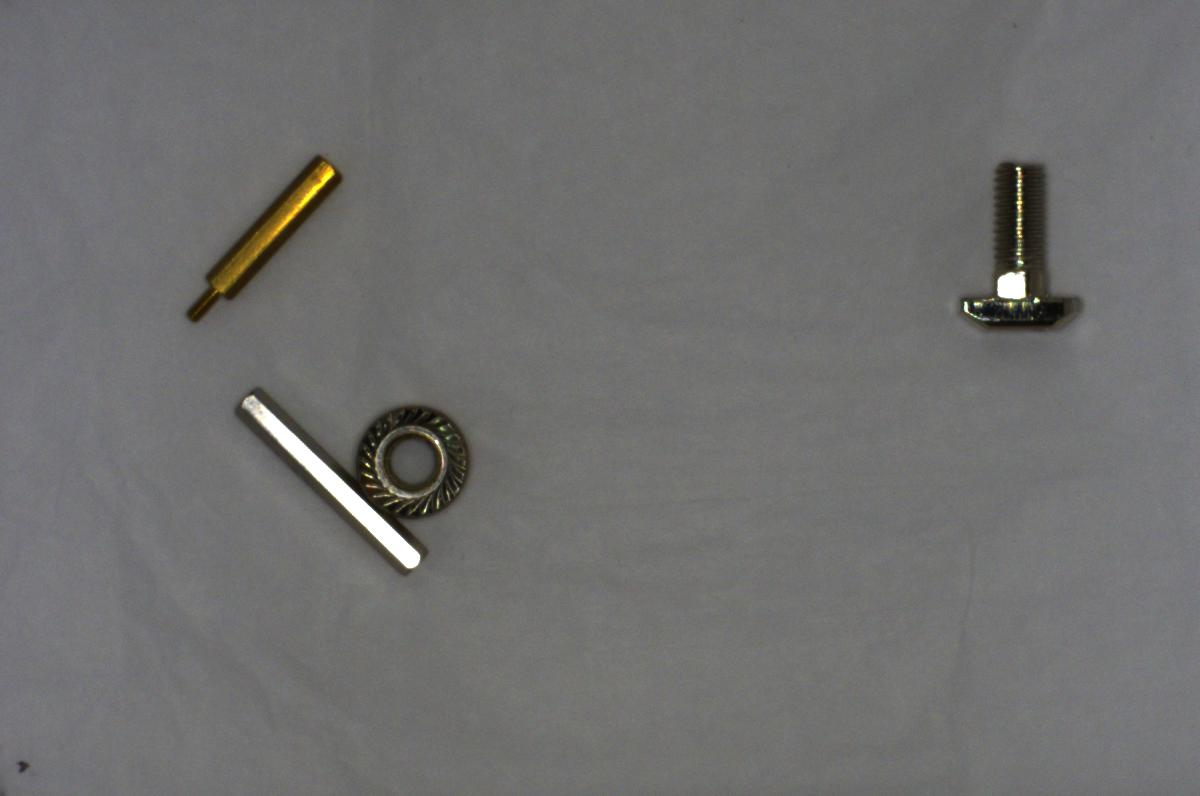Double hexagonal column: (227, 382, 428, 575)
Flange nut: (345, 400, 474, 521)
Hexagon pillar: (168, 149, 350, 328)
T-shaped screw: (942, 154, 1093, 341)
